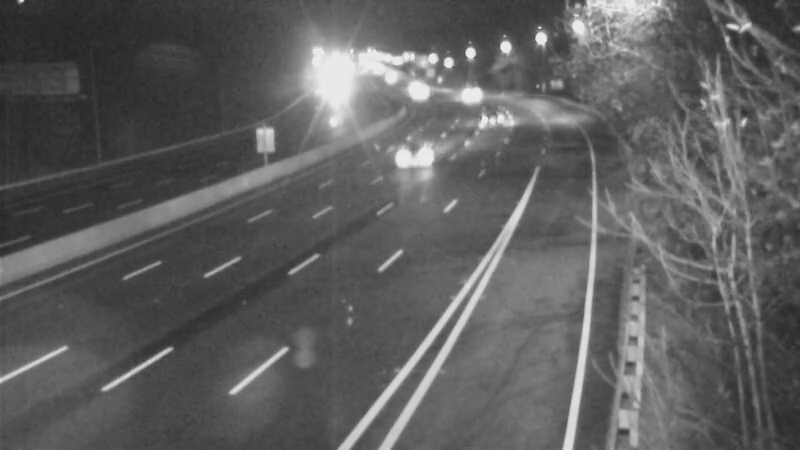vehicle: (378, 114, 458, 194), (389, 61, 439, 111), (393, 66, 443, 116), (447, 71, 497, 121), (468, 91, 518, 141)
